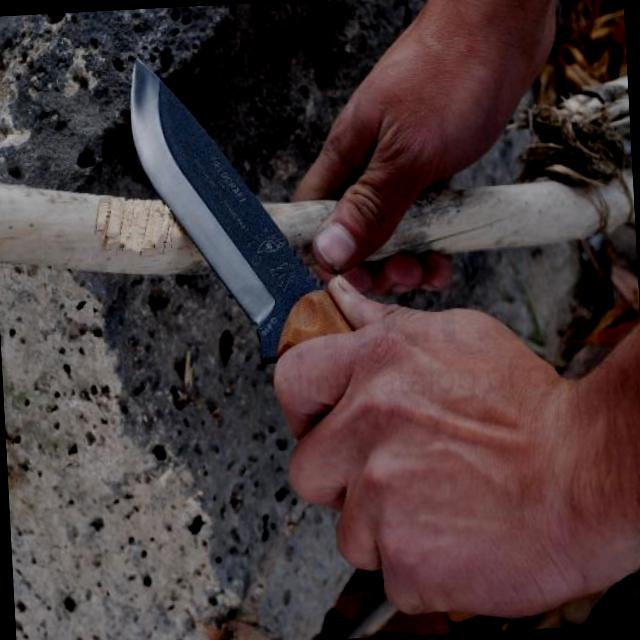knife: (110, 32, 377, 566)
